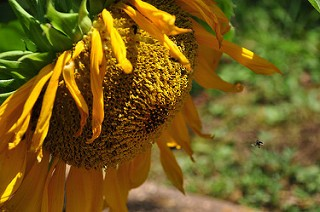flower: (0, 1, 285, 211)
